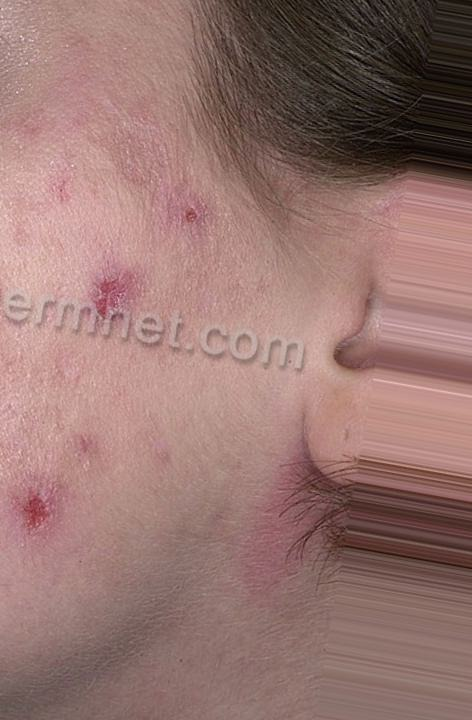Acne: (15, 141, 225, 584)
